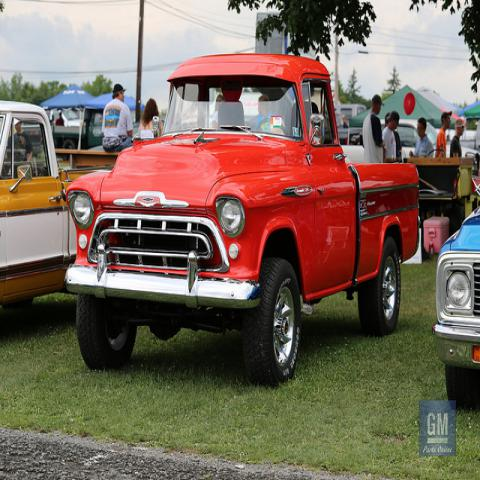car: (436, 198, 480, 412), (380, 119, 480, 173), (337, 126, 366, 165)
truck: (65, 50, 419, 382), (0, 100, 123, 315), (430, 202, 479, 410)
